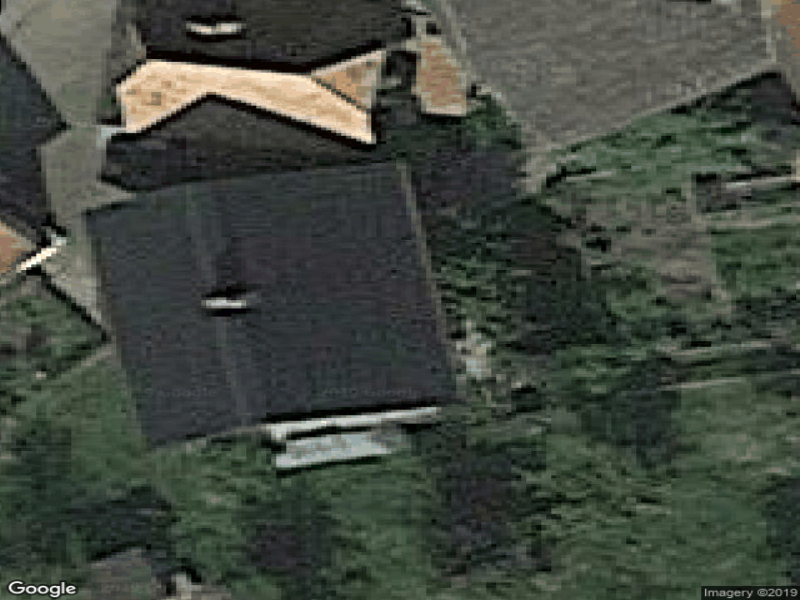pv: (87, 167, 458, 441)
